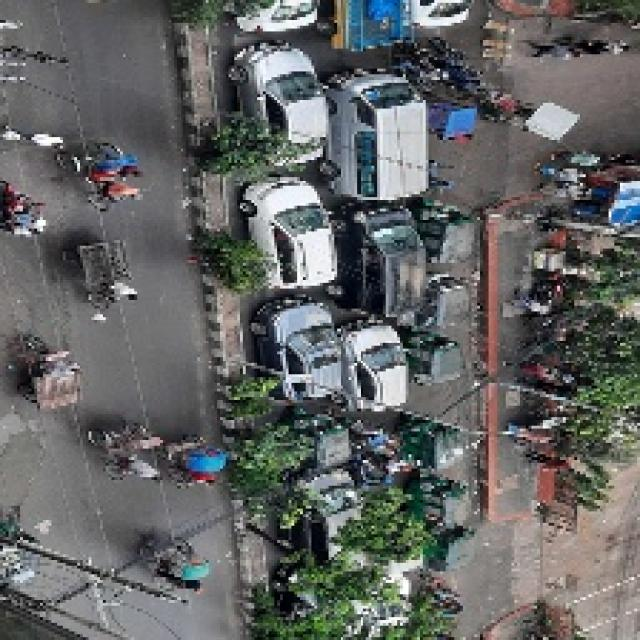bike: (359, 461, 388, 495)
car: (328, 62, 435, 207), (225, 44, 337, 164), (340, 199, 429, 323), (240, 181, 341, 289), (334, 317, 418, 417), (263, 302, 336, 399), (291, 469, 358, 561)
rickshaw: (18, 328, 81, 417), (66, 238, 138, 312), (58, 144, 141, 208), (85, 417, 160, 484), (144, 539, 206, 596), (167, 431, 222, 495), (342, 415, 401, 456)
